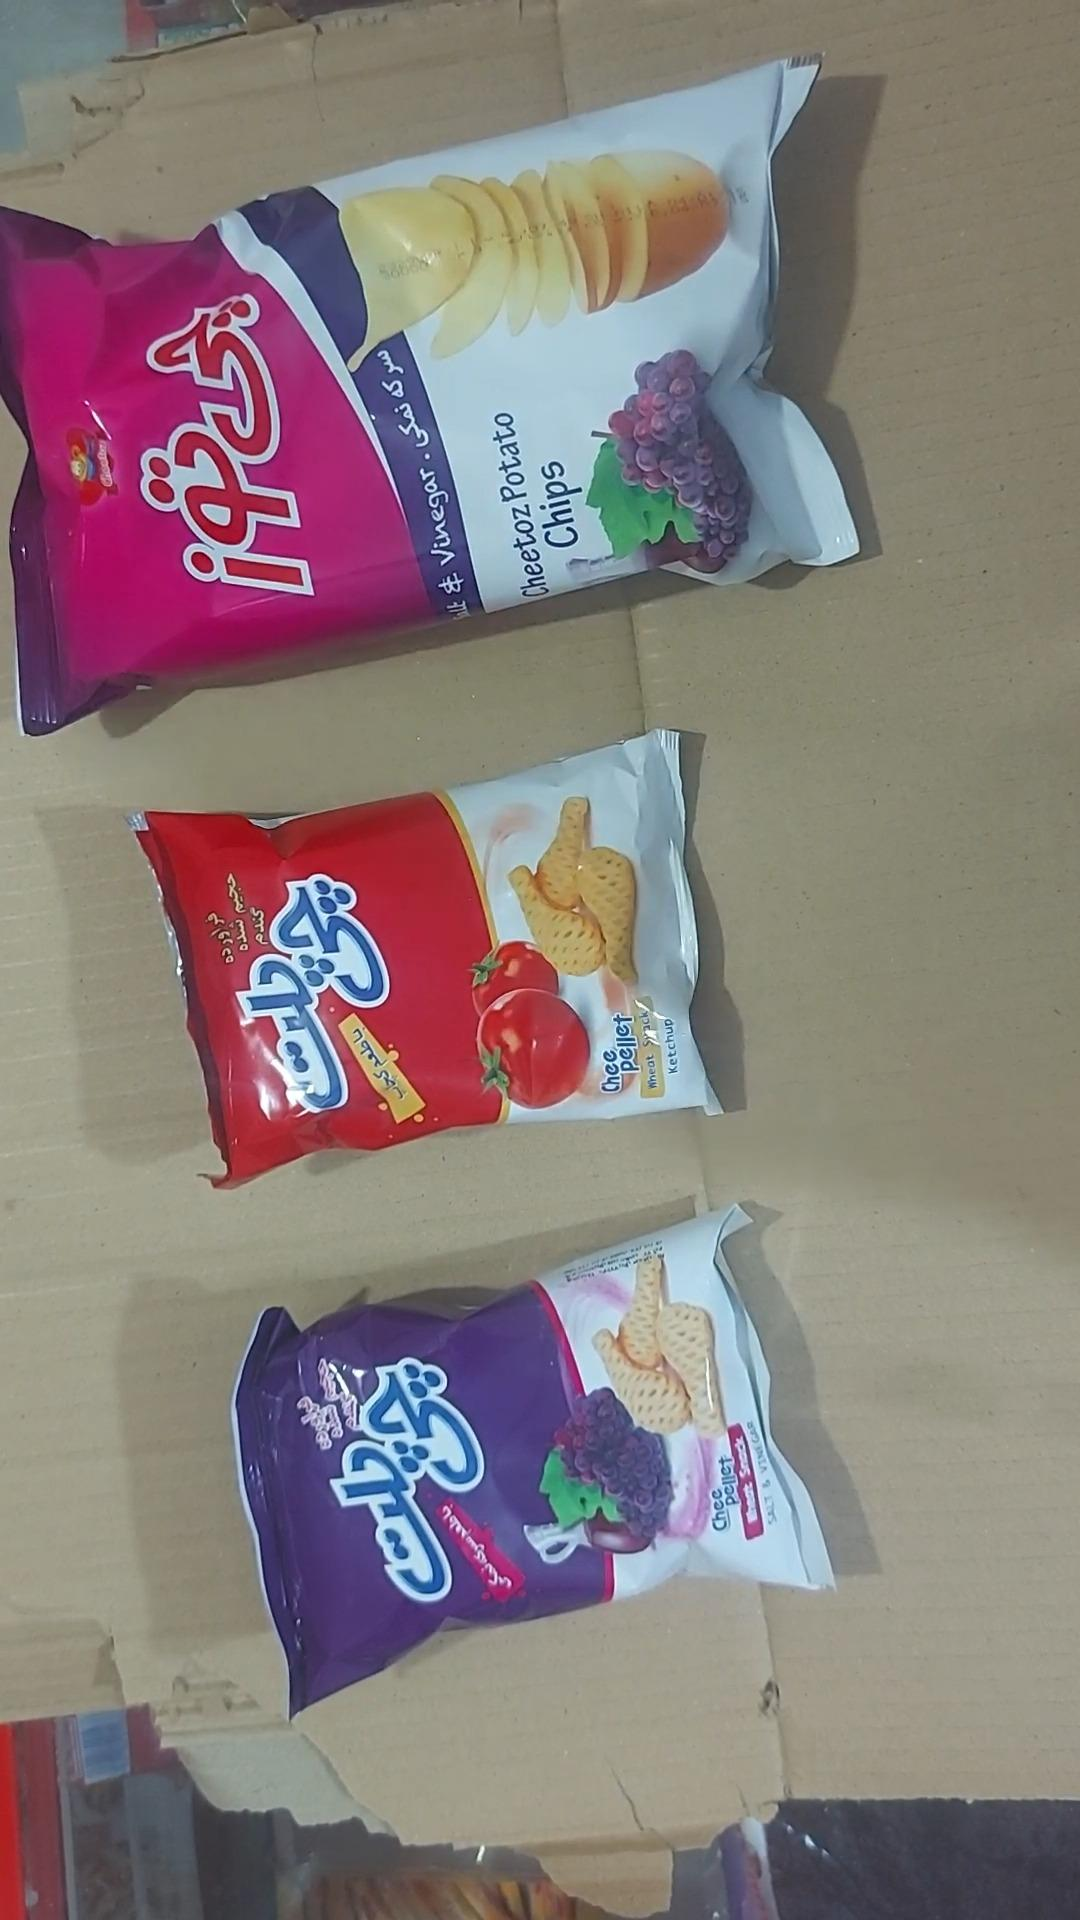Chee pellet ketchup: (127, 731, 717, 1191)
Chee pellet vinegar: (229, 1205, 836, 1718)
Cheetoz vinegar chips: (0, 54, 861, 738)
